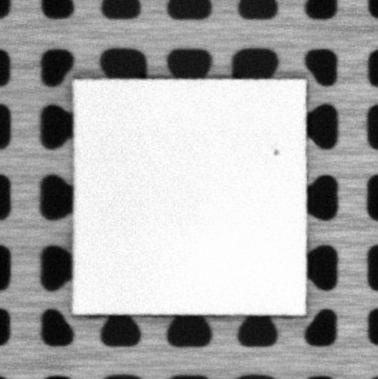DIE_INK: (272, 146, 281, 156)
